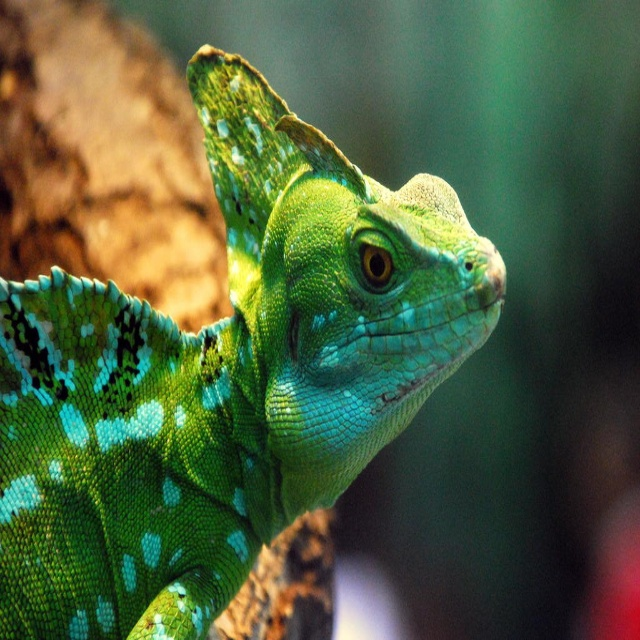Lizard: (0, 44, 507, 640)
